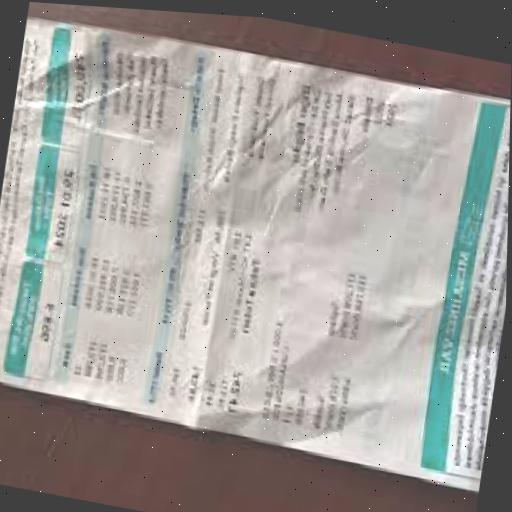electricity-bill: (0, 20, 511, 488)
